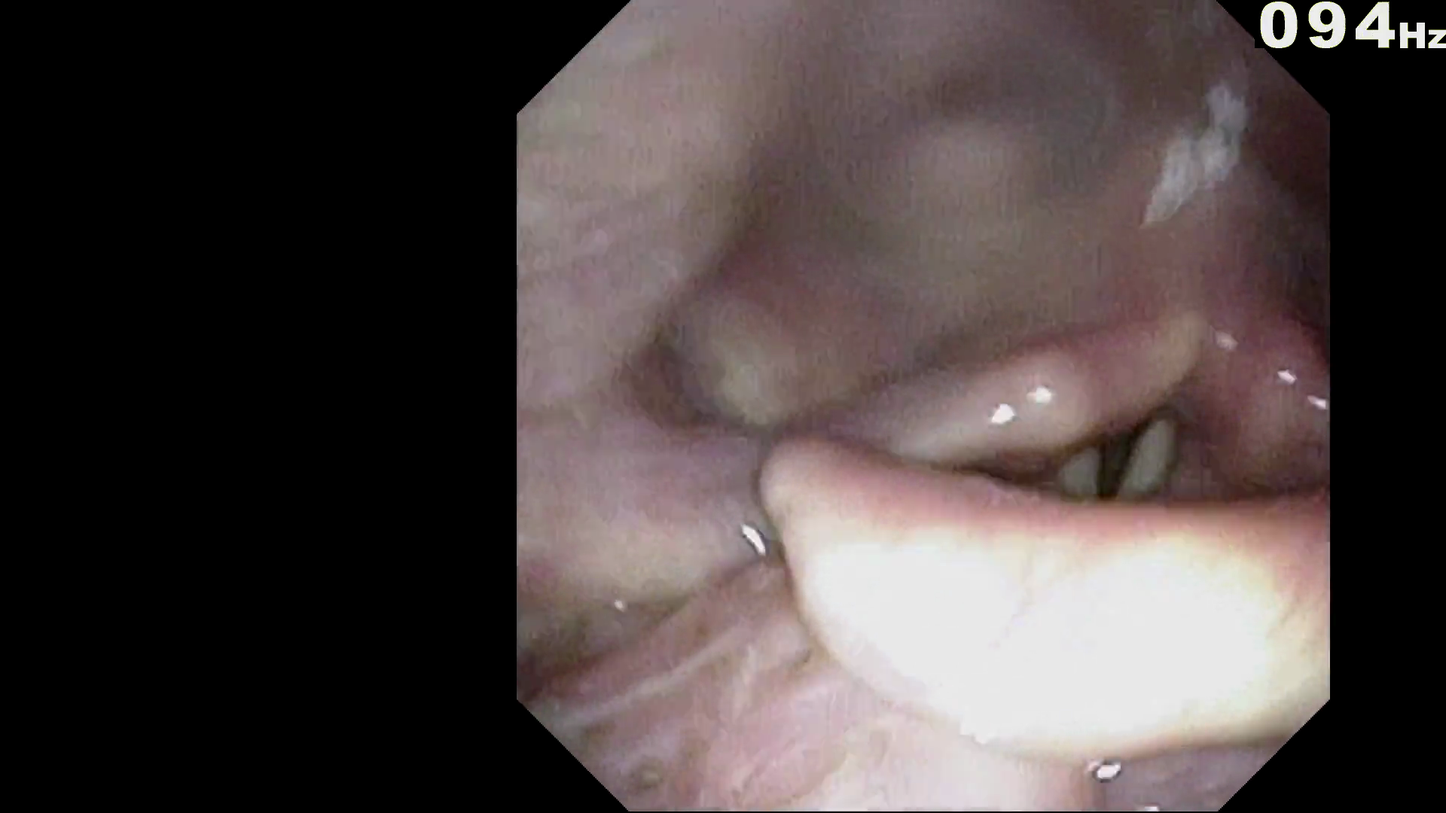epiglottis: (808, 453, 1306, 678)
trachea: (1070, 391, 1179, 484)
